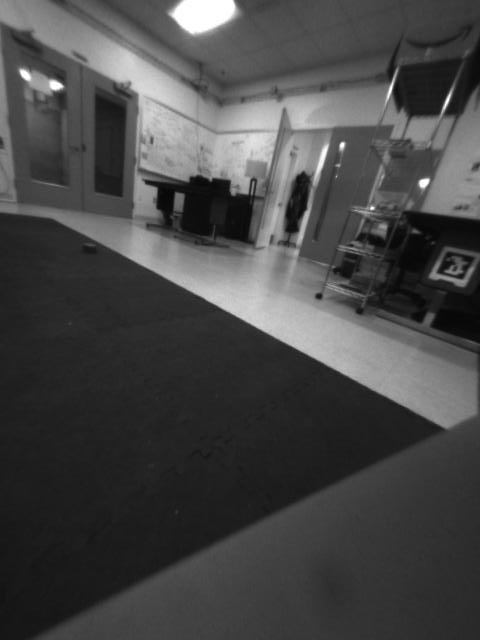dogtoy: (71, 235, 101, 259)
